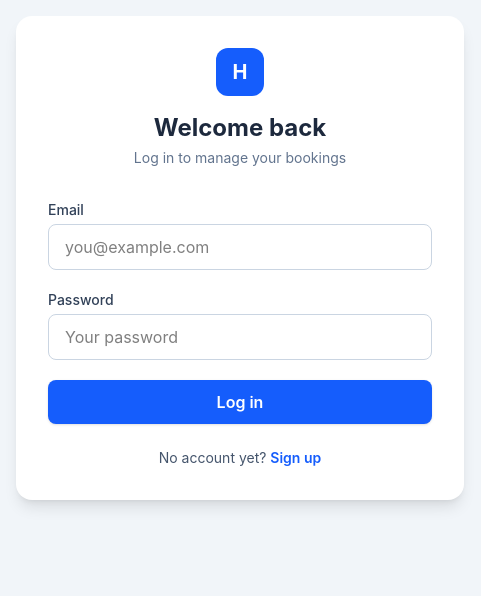
Test case: LoginPage › shows an error when the login fails
Type "gaurav@example.com" into the field with placeholder "you@example.com" at (240,247), box [48,224,432,270]
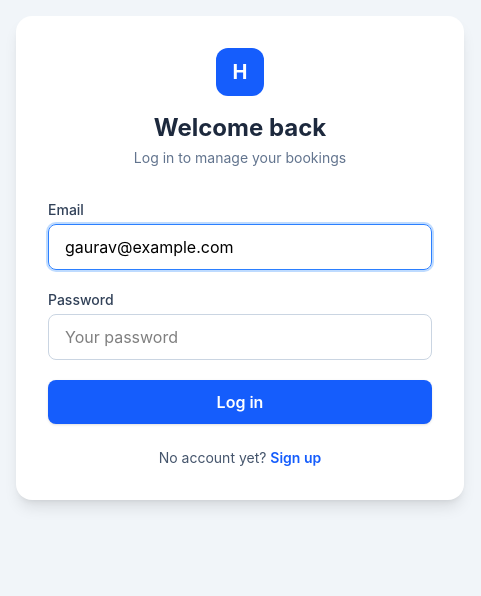
Type "strong-password" into the password field with placeholder "Your password" at (240,337), box [48,314,432,360]
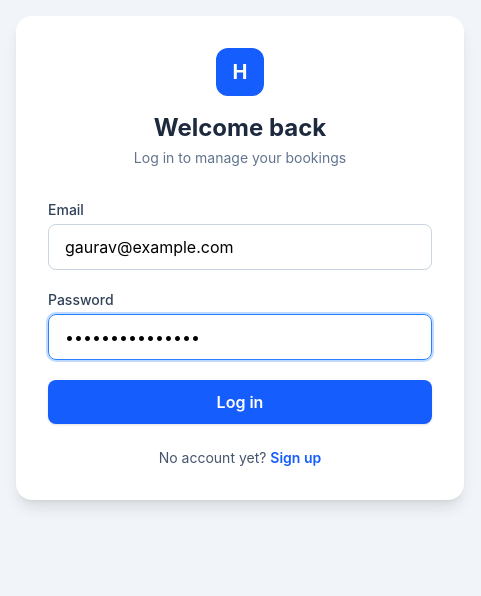
Click the button "Log in" at (240,402), box [48,380,432,424]
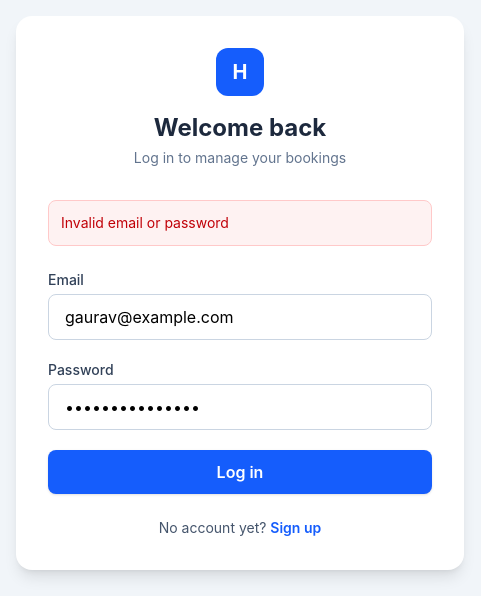
Expected: the text "Invalid email or password" is shown, [48,200,432,246]
